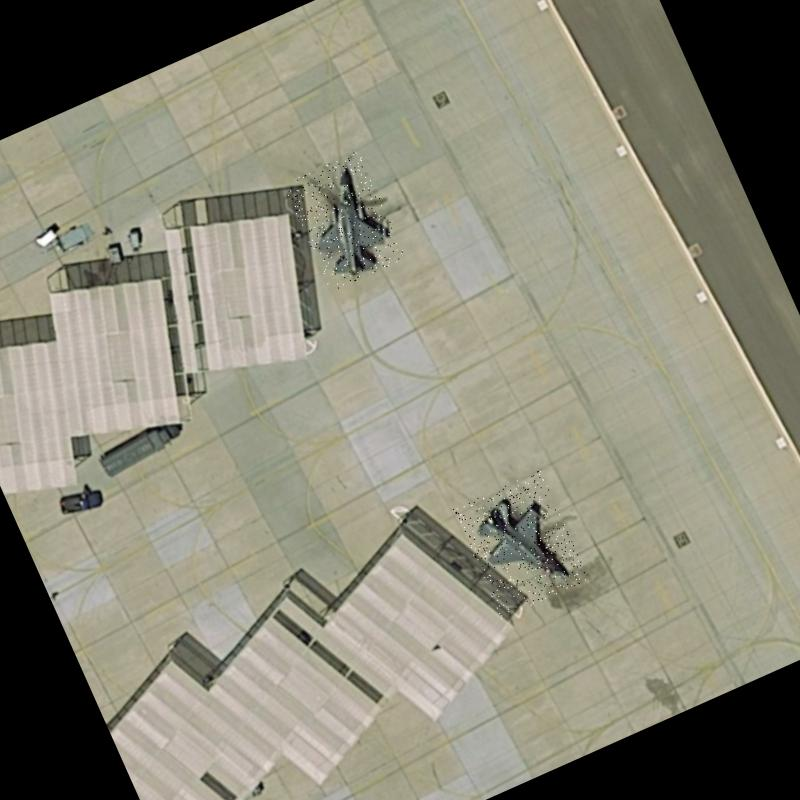A5: (453, 470, 590, 618), (283, 150, 407, 292)
